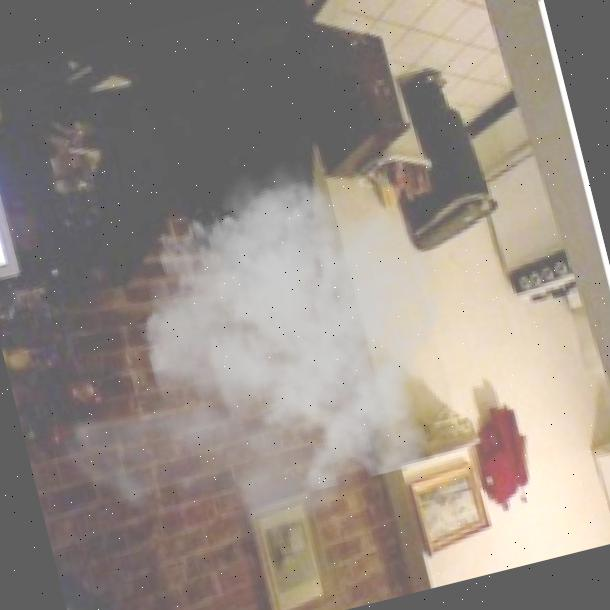smoke: (2, 124, 501, 592)
